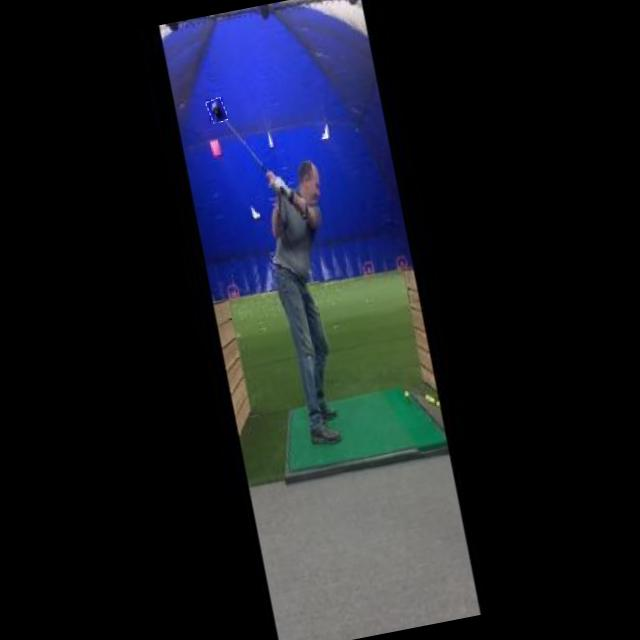club head: (206, 97, 227, 124)
